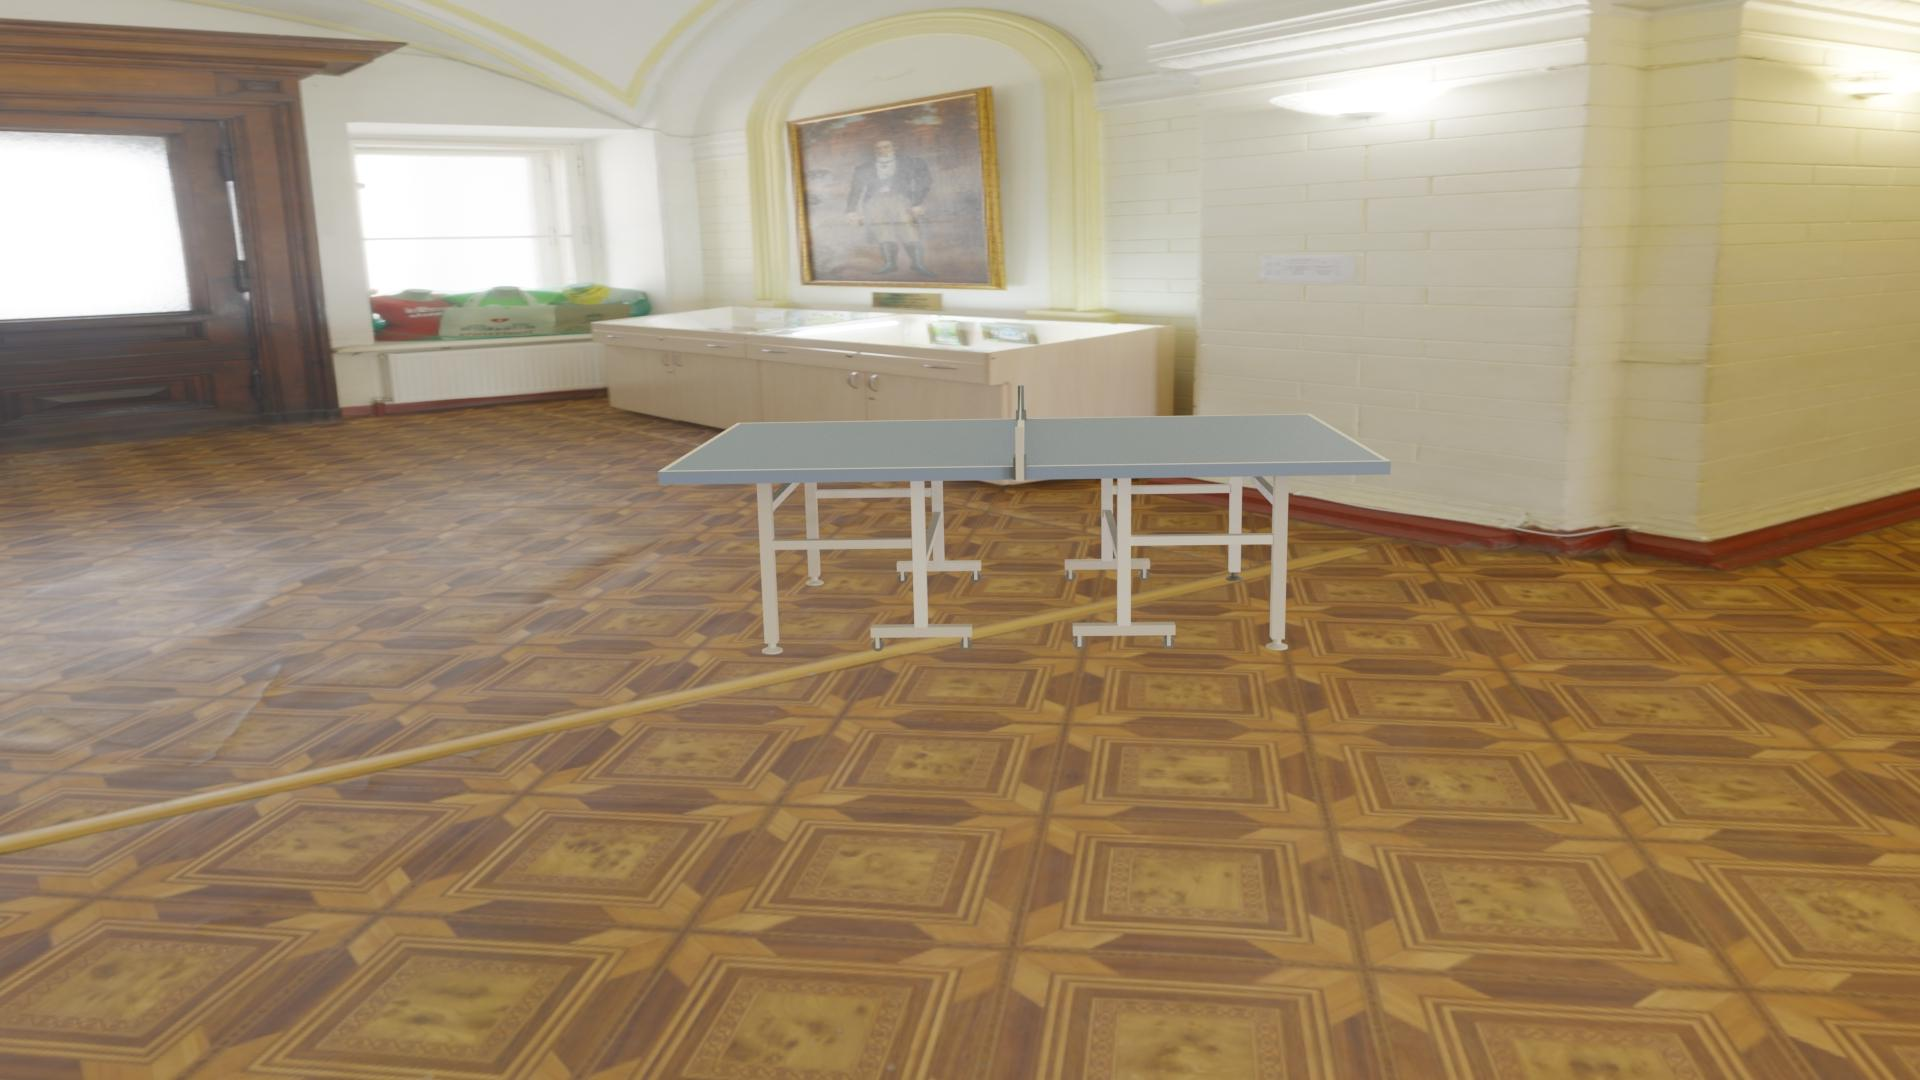table: (665, 414, 1385, 471)
